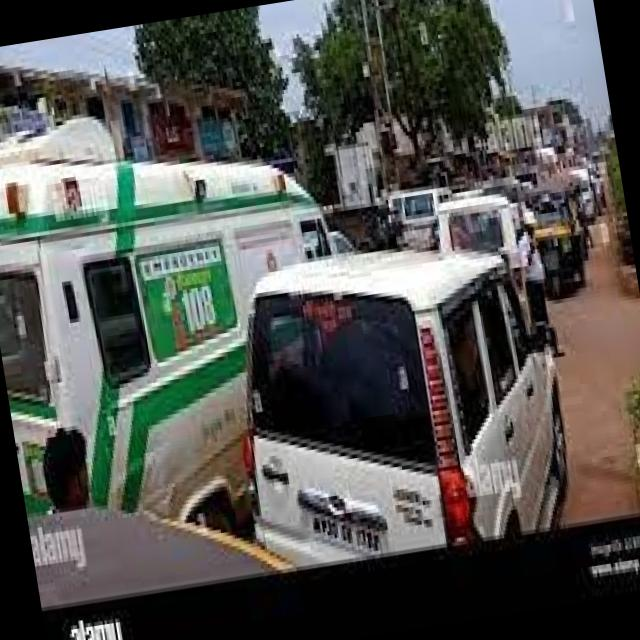ambulance: (0, 113, 263, 524)
